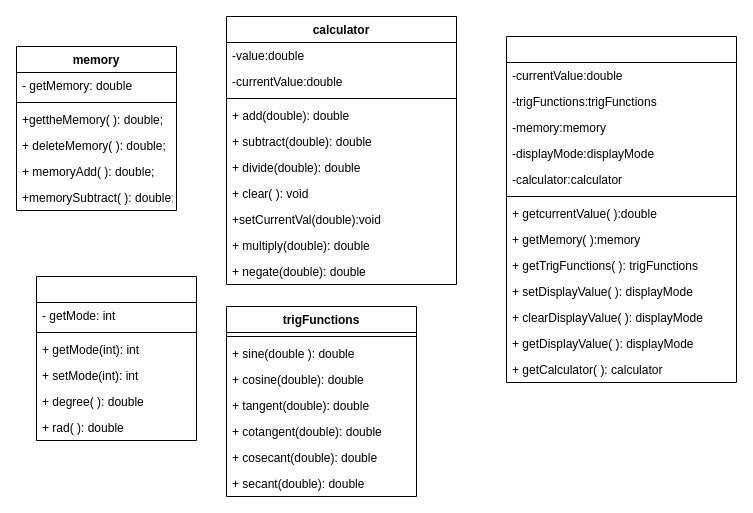
Image size: 753x513. Some labels were removed from this diagram. Each missing label, with the box of its shape:
displayMode: (36, 276, 196, 440)
scientificCalc: (506, 36, 736, 382)
